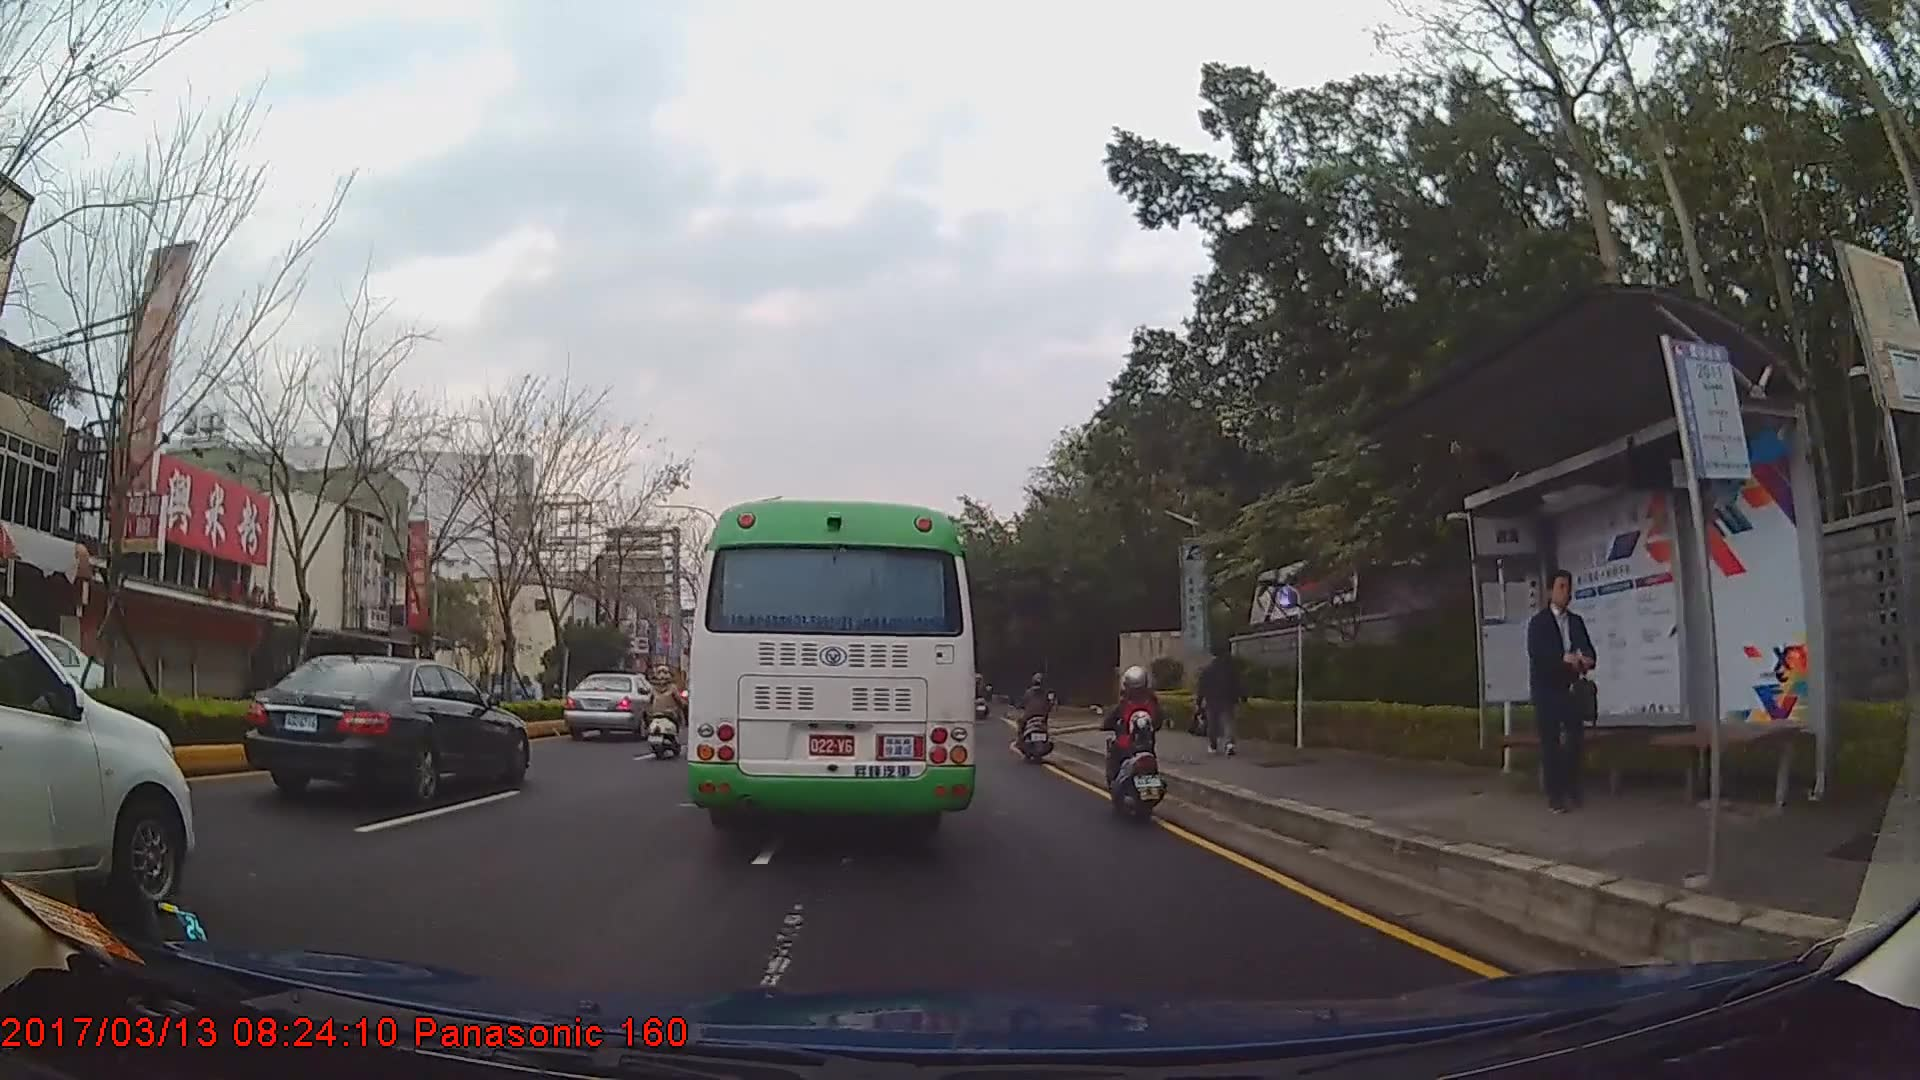pedestrian: (1526, 572, 1601, 816), (1192, 640, 1247, 760)
rider: (1099, 661, 1166, 823), (1014, 668, 1057, 765), (649, 665, 681, 759), (960, 672, 980, 713)
vehicle: (686, 502, 974, 846), (0, 581, 193, 906), (242, 651, 530, 805), (564, 669, 661, 741)
